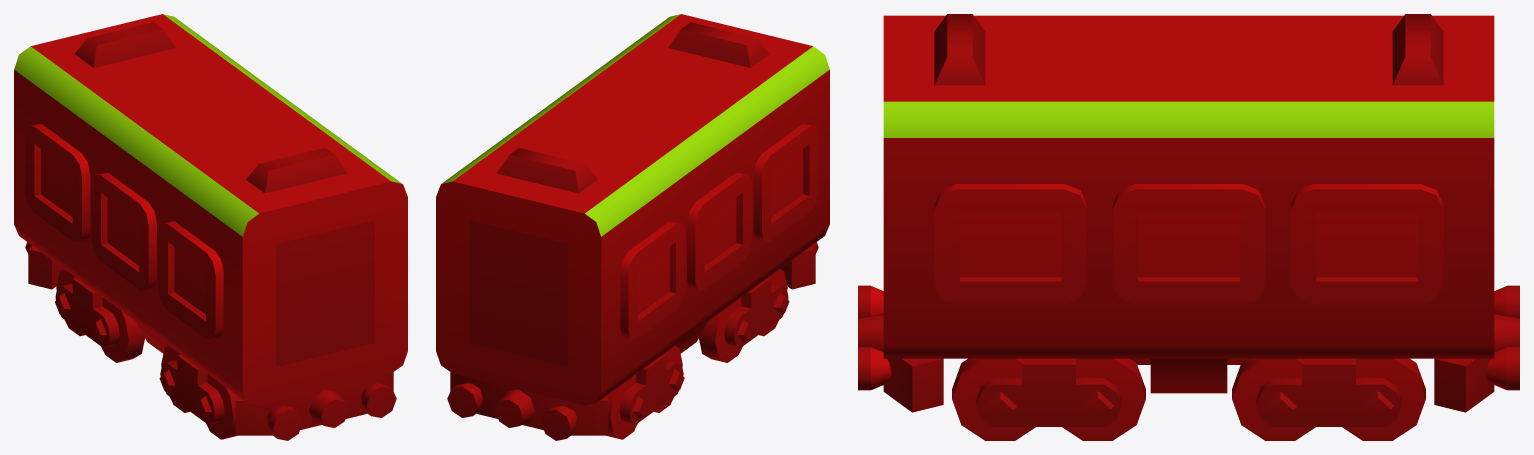
File: train-subway-b.glb
3 renders of one model, left to right at view 1: azimuth 30°, elevation 25°; view 2: azimuth 150°, elevation 25°; view 3: azimuth 270°, elevation 25°, orthographic. The views are drawn at different scales.
Visible parts, largest first — view 1: train-electric-subway-b, wheels-back, wheels-front; view 2: train-electric-subway-b, wheels-front, wheels-back; view 3: train-electric-subway-b, wheels-front, wheels-back.
Boxes of the visible parts, <box> form: train-electric-subway-b: <box>14,14,407,440</box>; wheels-back: <box>55,269,144,362</box>; wheels-front: <box>159,346,237,439</box>; train-electric-subway-b: <box>436,14,829,440</box>; wheels-front: <box>699,269,789,362</box>; wheels-back: <box>606,346,684,439</box>; train-electric-subway-b: <box>858,14,1519,412</box>; wheels-front: <box>952,358,1145,440</box>; wheels-back: <box>1232,358,1425,440</box>.
Size of the model in its own units: 1.1 by 1.57 by 2.6.
